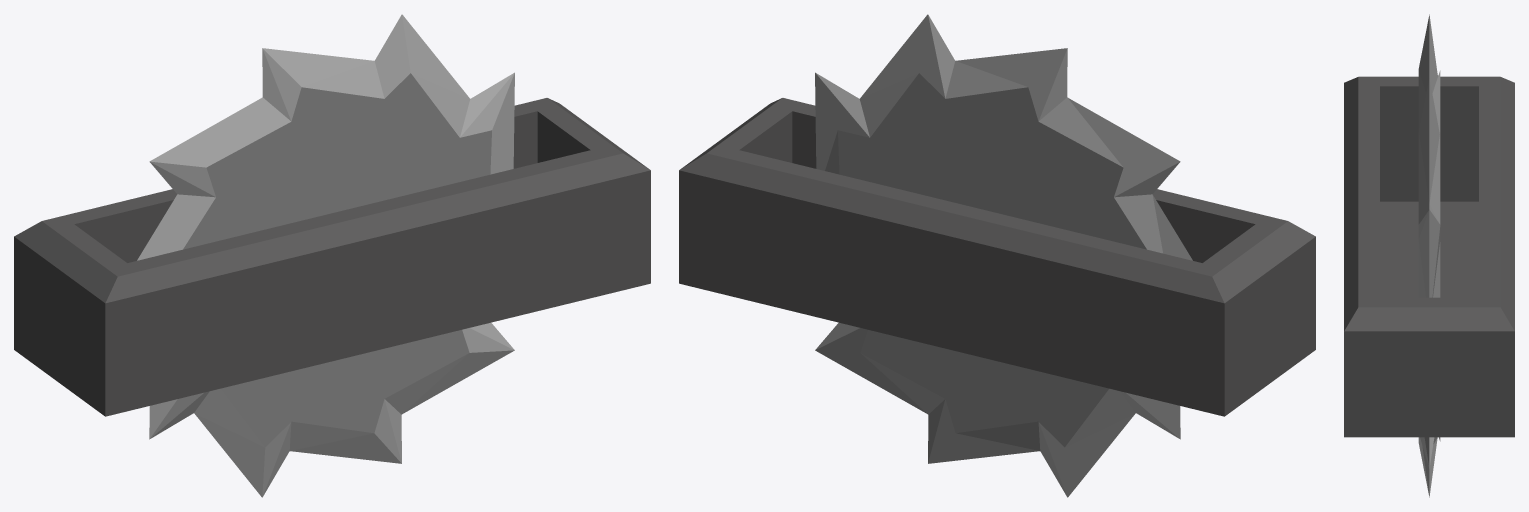
File: saw.fbx
3 renders of one model, left to right at view 1: azimuth 30°, elevation 25°; view 2: azimuth 150°, elevation 25°; view 3: azimuth 270°, elevation 25°, orthographic. The views are drawn at different scales.
Parts seen in each view (by area): view 1: saw1, saw2; view 2: saw1, saw2; view 3: saw1, saw2.
Boxes of the visible parts, <box> form: saw1: <box>14,98,650,416</box>; saw2: <box>137,14,514,497</box>; saw1: <box>679,98,1315,416</box>; saw2: <box>815,14,1192,497</box>; saw1: <box>1344,76,1514,437</box>; saw2: <box>1418,14,1440,497</box>.
Size of the model in its own units: 15.6 by 12.3 by 4.53.
1 material, 1 textured.
